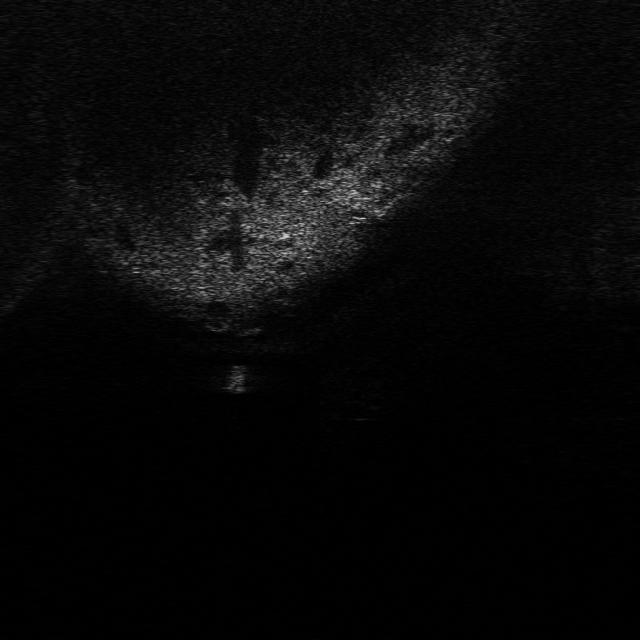cylinder: (222, 363, 249, 395)
